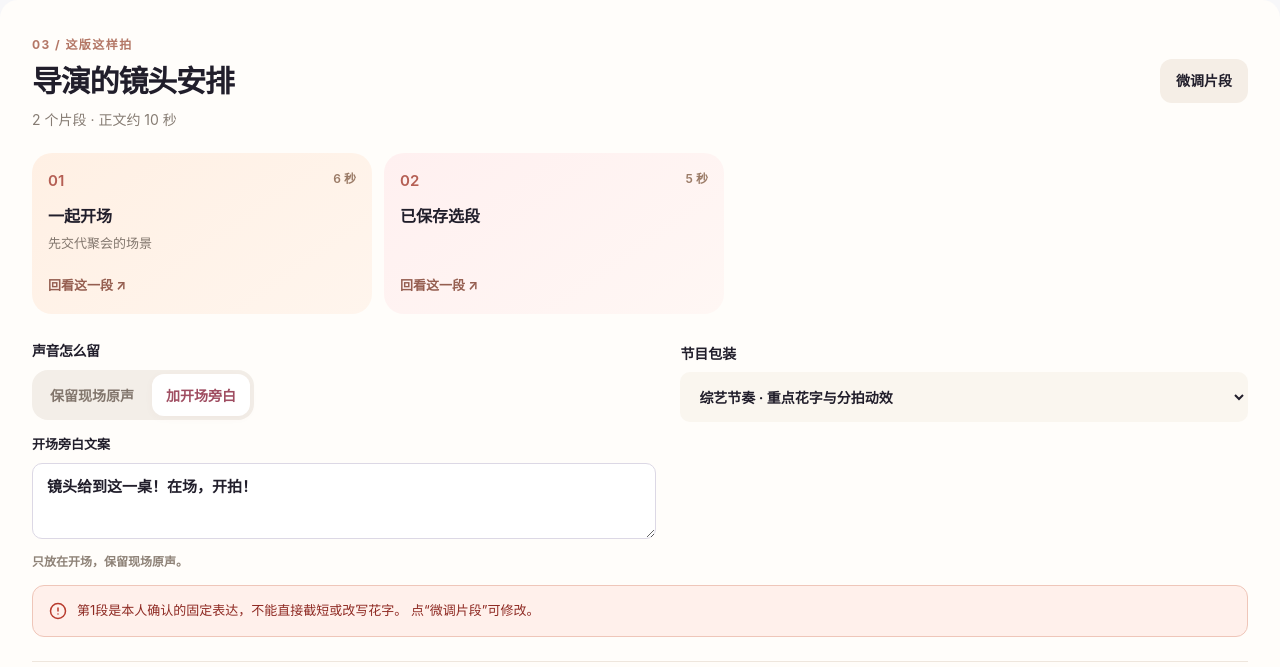
Test: guided editor › shows validation errors before continuing and keeps source restrictions in the dialog
expect the message shows "不能直接截短或改写花字": met, box [77,602,407,618]
Click the button "微调片段" at (1204, 81), box [1160,59,1248,103]
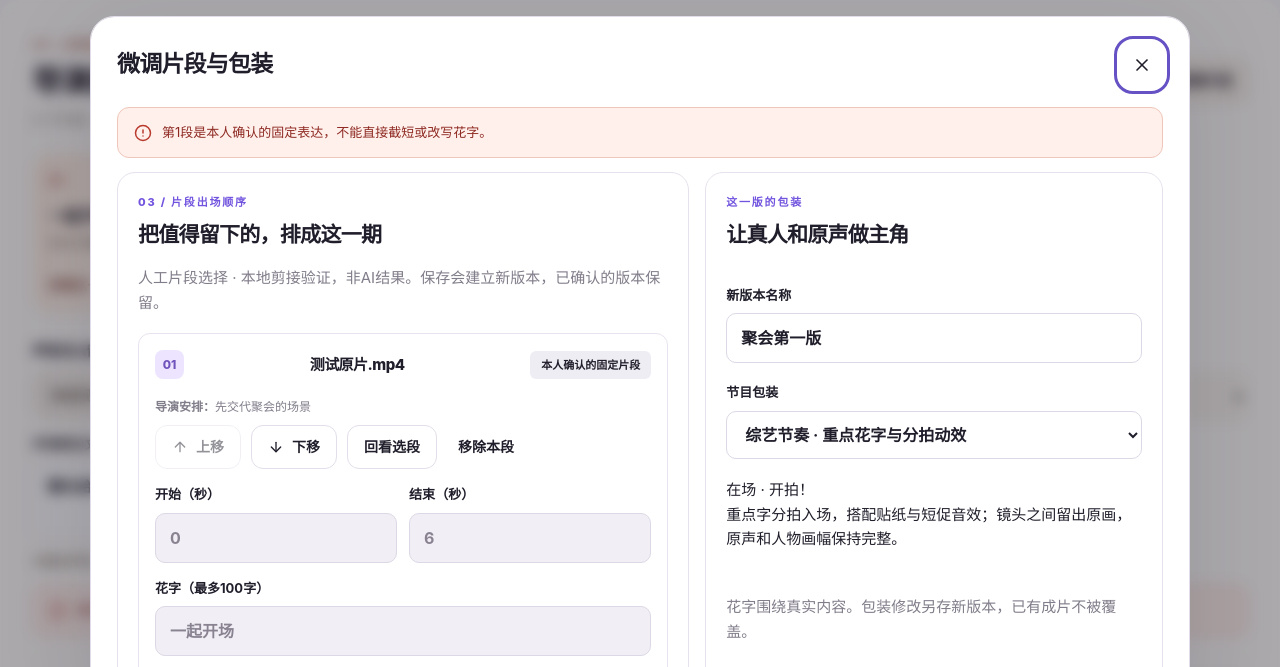
expect the number field labelled "开始（秒）" is disabled: met, box [155,513,397,563]
expect the field labelled "花字（最多100字）" is disabled: met, box [155,606,651,656]
